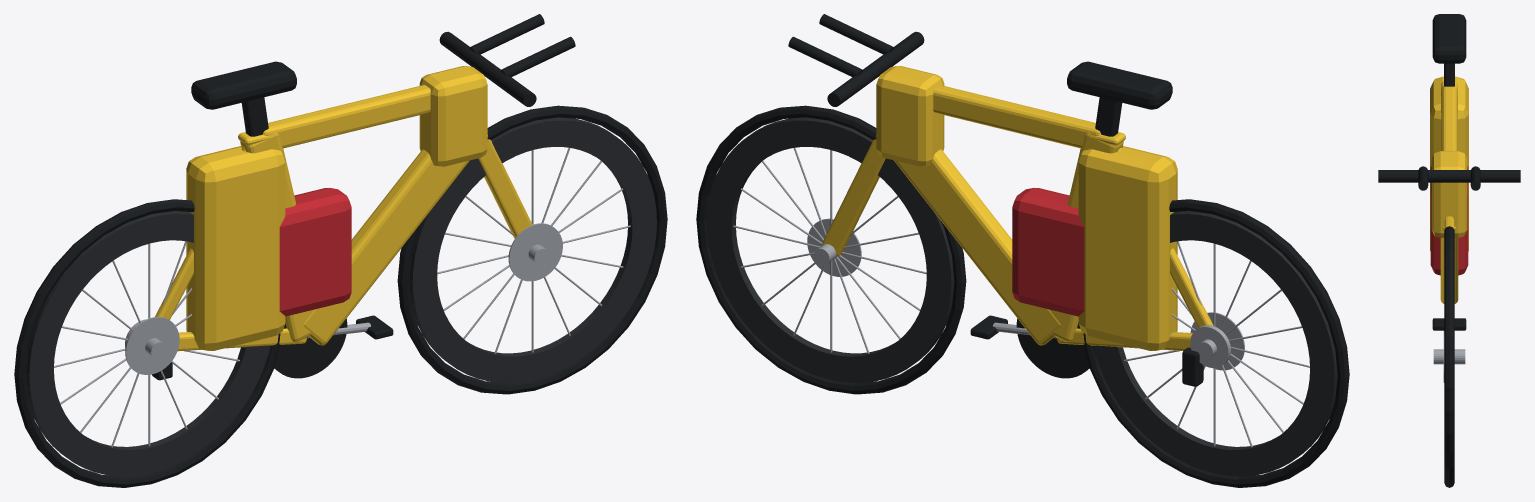
The model's file is specialized-shiv-disc-size-m.glb.
3 renders of one model, left to right at view 1: azimuth 30°, elevation 25°; view 2: azimuth 150°, elevation 25°; view 3: azimuth 270°, elevation 25°, orthographic. The views are drawn at different scales.
Visible parts, largest first — view 1: specialized-shiv-disc-size-m_FRONT_WHEEL_RIM, specialized-shiv-disc-size-m_SHIV_REAR_SAIL, specialized-shiv-disc-size-m_REAR_WHEEL_RIM, specialized-shiv-disc-size-m_FRONT_WHEEL_TIRE, specialized-shiv-disc-size-m_FUELCELL, specialized-shiv-disc-size-m_DOWN_TUBE, specialized-shiv-disc-size-m_REAR_WHEEL_TIRE, specialized-shiv-disc-size-m_SHIV_HEAD_BLOCK, specialized-shiv-disc-size-m, specialized-shiv-disc-size-m_TOP_TUBE, specialized-shiv-disc-size-m_SADDLE, specialized-shiv-disc-size-m_REAR_ROTOR (+10 smaller); view 2: specialized-shiv-disc-size-m_FRONT_WHEEL_RIM, specialized-shiv-disc-size-m_SHIV_REAR_SAIL, specialized-shiv-disc-size-m_REAR_WHEEL_RIM, specialized-shiv-disc-size-m_FRONT_WHEEL_TIRE, specialized-shiv-disc-size-m_FUELCELL, specialized-shiv-disc-size-m_DOWN_TUBE, specialized-shiv-disc-size-m_REAR_WHEEL_TIRE, specialized-shiv-disc-size-m, specialized-shiv-disc-size-m_SHIV_HEAD_BLOCK, specialized-shiv-disc-size-m_TOP_TUBE, specialized-shiv-disc-size-m_SADDLE, specialized-shiv-disc-size-m_FORK_L (+12 smaller); view 3: specialized-shiv-disc-size-m_FRONT_WHEEL_TIRE, specialized-shiv-disc-size-m_SHIV_HEAD_BLOCK, specialized-shiv-disc-size-m_SHIV_REAR_SAIL, specialized-shiv-disc-size-m_SADDLE, specialized-shiv-disc-size-m_AERO_BASE, specialized-shiv-disc-size-m_TOP_TUBE, specialized-shiv-disc-size-m_FUELCELL, specialized-shiv-disc-size-m_DOWN_TUBE, specialized-shiv-disc-size-m_FRONT_WHEEL_HUB, specialized-shiv-disc-size-m_PEDAL, specialized-shiv-disc-size-m_SEATPOST, specialized-shiv-disc-size-m_EXT_L (+1 smaller).
Boxes of the visible parts, left/top/right/bottom form: specialized-shiv-disc-size-m_FRONT_WHEEL_RIM: left=409, top=117, right=656, bottom=382; specialized-shiv-disc-size-m_SHIV_REAR_SAIL: left=186, top=146, right=285, bottom=350; specialized-shiv-disc-size-m_REAR_WHEEL_RIM: left=26, top=211, right=270, bottom=476; specialized-shiv-disc-size-m_FRONT_WHEEL_TIRE: left=397, top=105, right=667, bottom=394; specialized-shiv-disc-size-m_FUELCELL: left=279, top=188, right=351, bottom=316; specialized-shiv-disc-size-m_DOWN_TUBE: left=303, top=149, right=469, bottom=345; specialized-shiv-disc-size-m_REAR_WHEEL_TIRE: left=14, top=199, right=280, bottom=487; specialized-shiv-disc-size-m_SHIV_HEAD_BLOCK: left=419, top=66, right=487, bottom=166; specialized-shiv-disc-size-m: left=54, top=148, right=630, bottom=447; specialized-shiv-disc-size-m_TOP_TUBE: left=263, top=85, right=430, bottom=148; specialized-shiv-disc-size-m_SADDLE: left=191, top=61, right=296, bottom=109; specialized-shiv-disc-size-m_REAR_ROTOR: left=125, top=316, right=179, bottom=374; specialized-shiv-disc-size-m_FRONT_WHEEL_RIM: left=707, top=117, right=954, bottom=382; specialized-shiv-disc-size-m_SHIV_REAR_SAIL: left=1078, top=146, right=1177, bottom=350; specialized-shiv-disc-size-m_REAR_WHEEL_RIM: left=1093, top=211, right=1337, bottom=476; specialized-shiv-disc-size-m_FRONT_WHEEL_TIRE: left=696, top=105, right=966, bottom=394; specialized-shiv-disc-size-m_FUELCELL: left=1012, top=188, right=1084, bottom=316; specialized-shiv-disc-size-m_DOWN_TUBE: left=894, top=149, right=1060, bottom=345; specialized-shiv-disc-size-m_REAR_WHEEL_TIRE: left=1083, top=199, right=1349, bottom=487; specialized-shiv-disc-size-m: left=733, top=148, right=1309, bottom=447; specialized-shiv-disc-size-m_SHIV_HEAD_BLOCK: left=876, top=66, right=944, bottom=166; specialized-shiv-disc-size-m_TOP_TUBE: left=933, top=85, right=1100, bottom=148; specialized-shiv-disc-size-m_SADDLE: left=1067, top=61, right=1172, bottom=109; specialized-shiv-disc-size-m_FORK_L: left=822, top=135, right=885, bottom=255; specialized-shiv-disc-size-m_FRONT_WHEEL_TIRE: left=1444, top=226, right=1454, bottom=487; specialized-shiv-disc-size-m_SHIV_HEAD_BLOCK: left=1431, top=151, right=1467, bottom=237; specialized-shiv-disc-size-m_SHIV_REAR_SAIL: left=1430, top=76, right=1468, bottom=251; specialized-shiv-disc-size-m_SADDLE: left=1432, top=14, right=1466, bottom=63; specialized-shiv-disc-size-m_AERO_BASE: left=1378, top=170, right=1520, bottom=182; specialized-shiv-disc-size-m_TOP_TUBE: left=1441, top=86, right=1457, bottom=150; specialized-shiv-disc-size-m_FUELCELL: left=1430, top=166, right=1468, bottom=275; specialized-shiv-disc-size-m_DOWN_TUBE: left=1440, top=226, right=1458, bottom=303; specialized-shiv-disc-size-m_FRONT_WHEEL_HUB: left=1433, top=349, right=1465, bottom=364; specialized-shiv-disc-size-m_PEDAL: left=1432, top=318, right=1466, bottom=330; specialized-shiv-disc-size-m_SEATPOST: left=1444, top=63, right=1454, bottom=86; specialized-shiv-disc-size-m_EXT_L: left=1418, top=166, right=1428, bottom=190.
Size of the model in its own units: 1.7 by 0.962 by 0.38.
